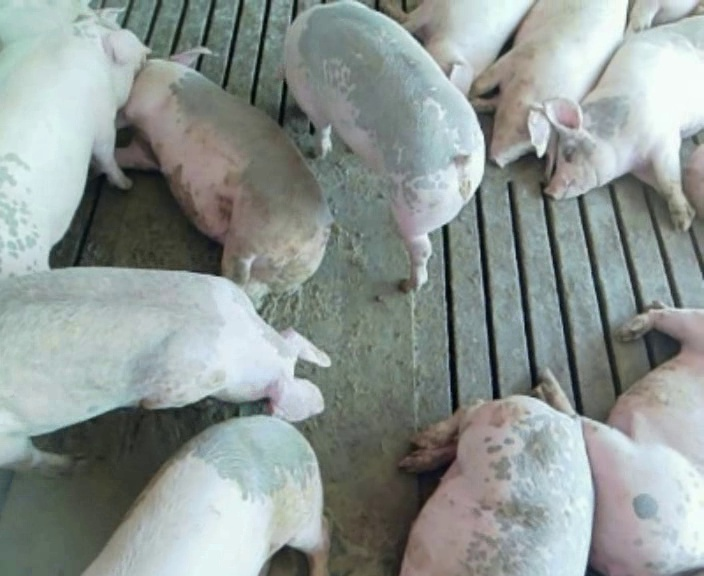pig: (286, 2, 484, 290), (116, 48, 332, 307), (0, 7, 146, 276), (84, 417, 328, 574), (537, 16, 703, 229), (400, 395, 593, 574), (470, 2, 627, 177), (380, 1, 531, 94)
